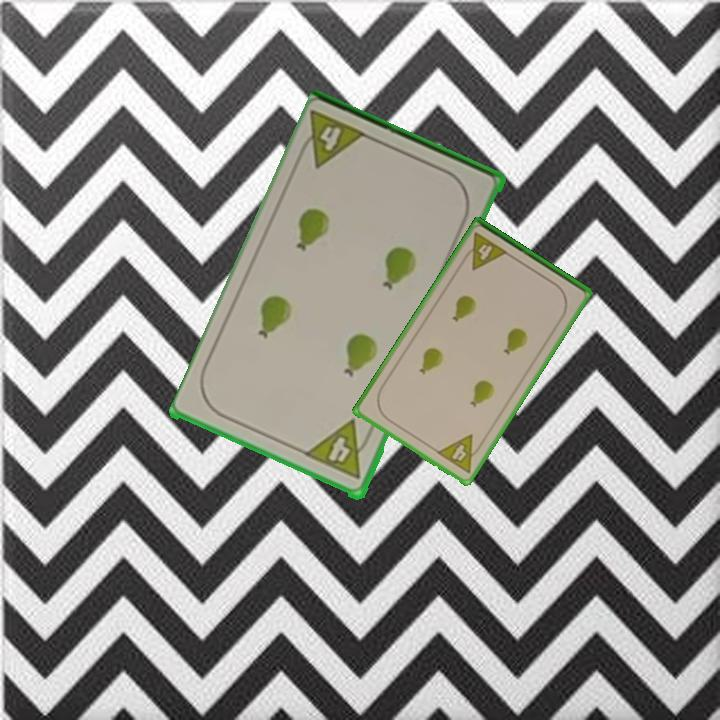4p: (293, 107, 372, 172), (303, 417, 376, 483), (433, 431, 487, 476), (458, 229, 511, 273)
